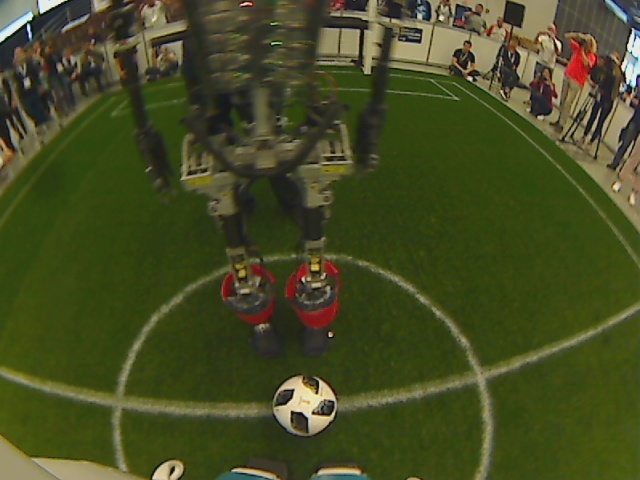ball: (270, 371, 340, 440)
